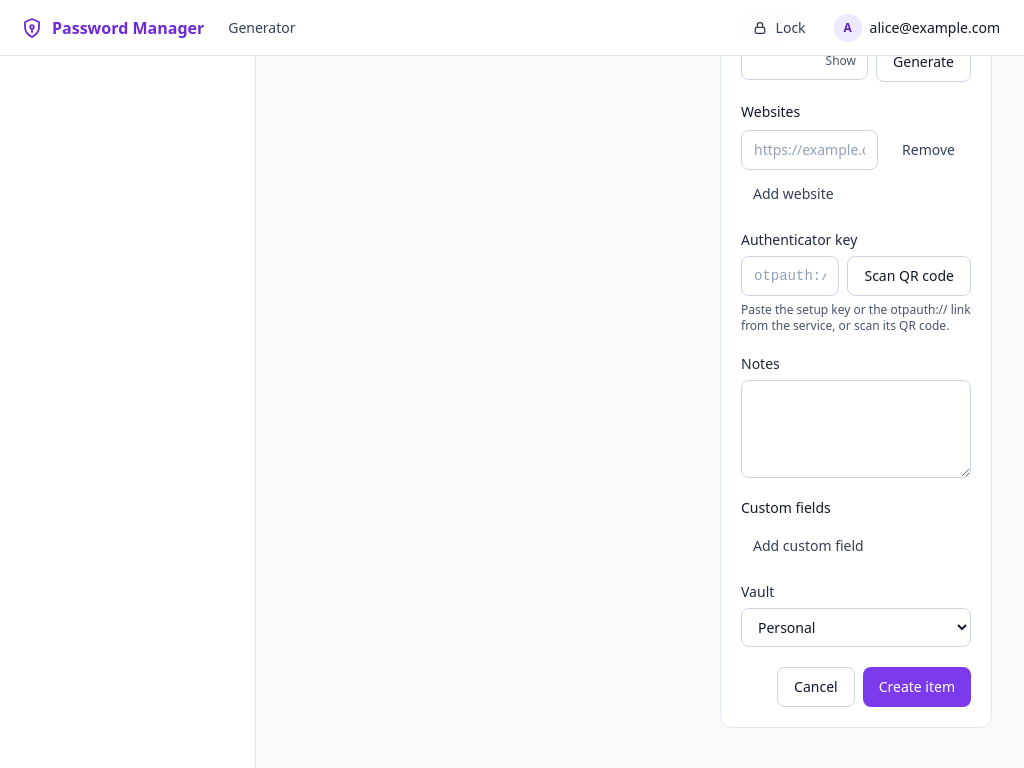
Scenario: create item › validates the name and an invalid TOTP before anything is encrypted
The image size is (1024, 768).
(page scrolled)
Click the button "Create item" at {"x": 917, "y": 687}, box [863,667,971,707]
(page scrolled)
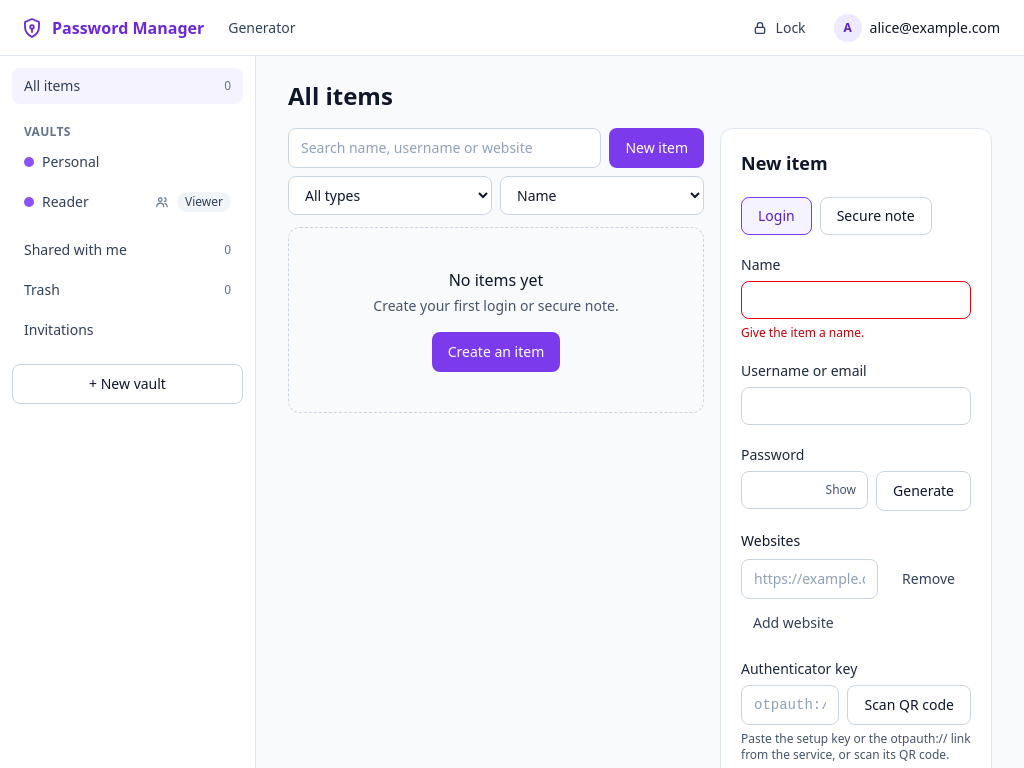
Result: the text "Give the item a name." is shown at [741,324,864,341]
Type "Site" into the field labelled "Name" at {"x": 856, "y": 300}, box [741,281,971,319]
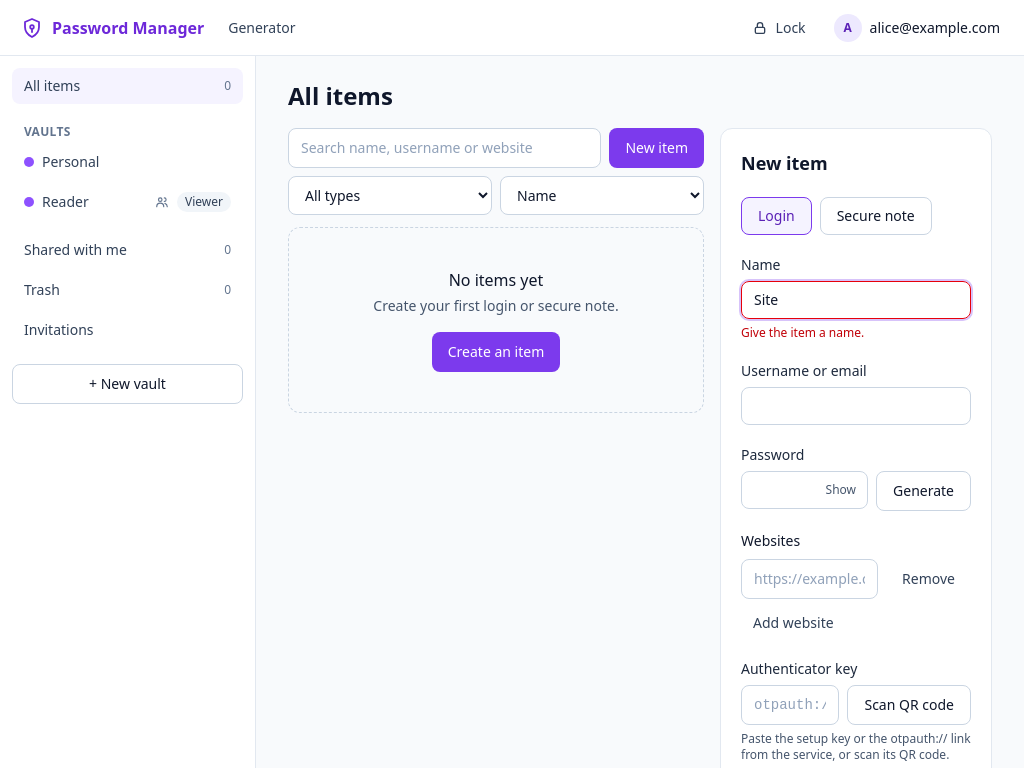
Type "this is !!! not a key" into the field labelled "Authenticator key" at {"x": 790, "y": 705}, box [741,685,840,725]
(page scrolled)
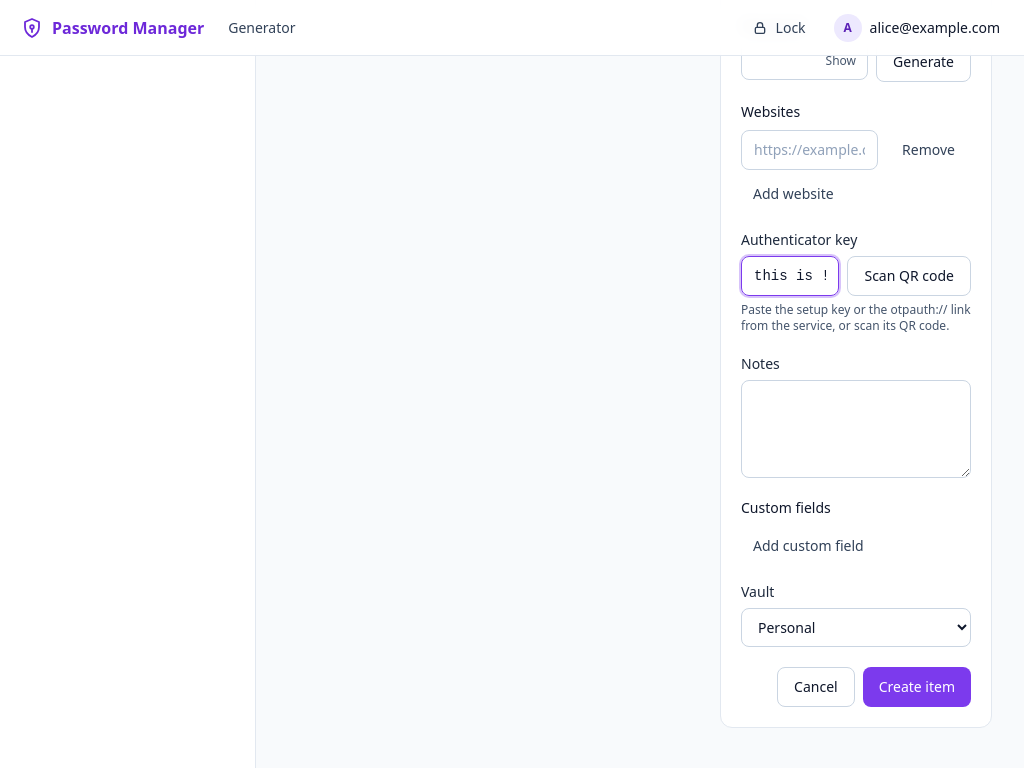
Click the button "Create item" at {"x": 917, "y": 687}, box [863,667,971,707]
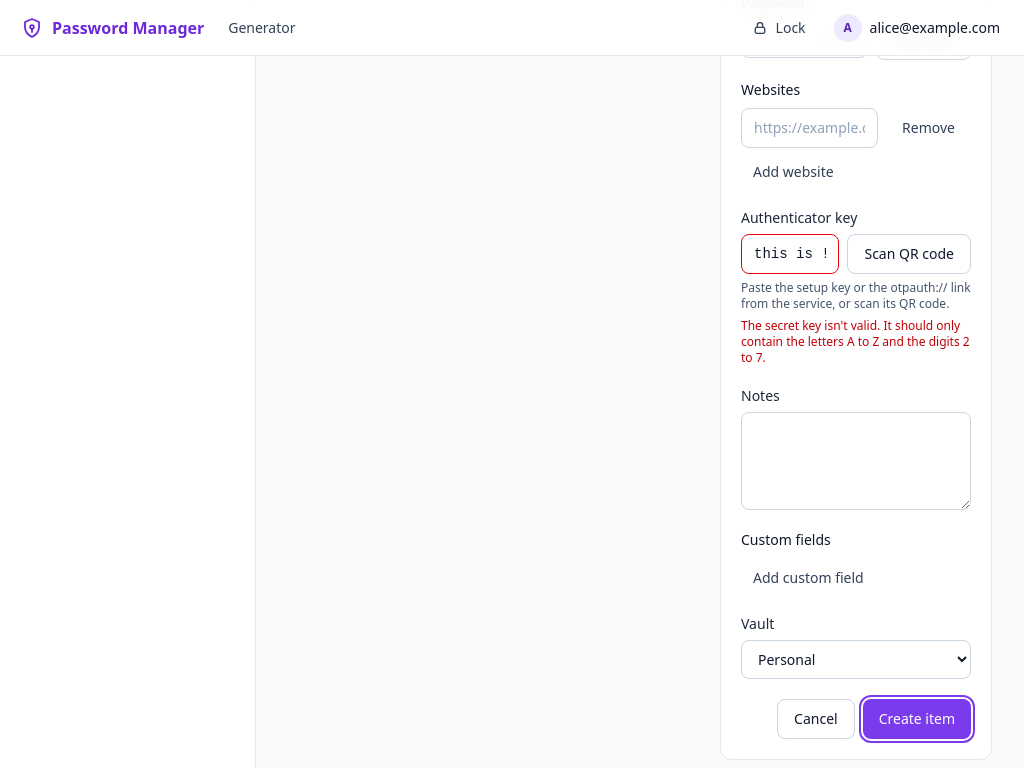
Result: the text "secret key isn't valid" is shown at [741,317,970,366]
